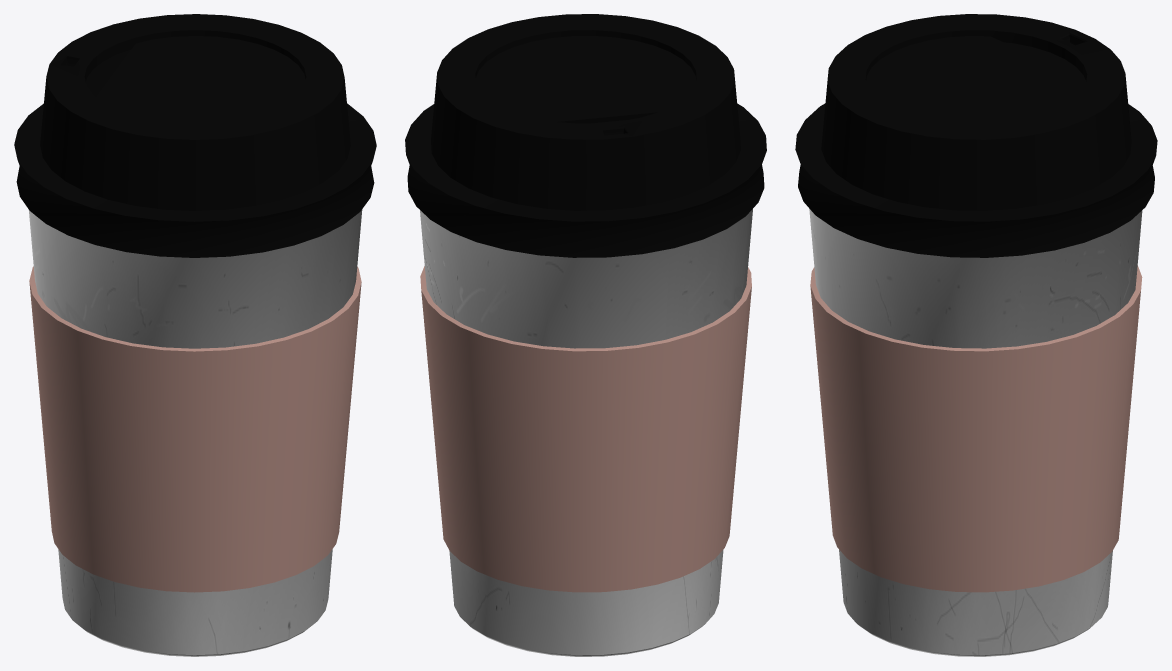
The model's file is cup.glb.
The picture shows the model from 3 angles, left to right: view 1: azimuth 30°, elevation 25°; view 2: azimuth 150°, elevation 25°; view 3: azimuth 270°, elevation 25°; orthographic projection.
Visible parts, largest first — view 1: Cylinder.001_1, Cylinder.002_2, Cylinder_0; view 2: Cylinder.001_1, Cylinder.002_2, Cylinder_0; view 3: Cylinder.001_1, Cylinder.002_2, Cylinder_0.
Part boxes in pixels (x1,y1,x2,y2): Cylinder.001_1: [29, 266, 361, 592]; Cylinder.002_2: [14, 14, 376, 257]; Cylinder_0: [29, 209, 362, 656]; Cylinder.001_1: [420, 266, 751, 592]; Cylinder.002_2: [405, 14, 766, 257]; Cylinder_0: [420, 209, 752, 656]; Cylinder.001_1: [810, 265, 1142, 592]; Cylinder.002_2: [795, 14, 1157, 257]; Cylinder_0: [809, 209, 1142, 656].
Size of the model in its own units: 0.1098 by 0.1757 by 0.1098.
Materials: 3 (1 with a texture image).
